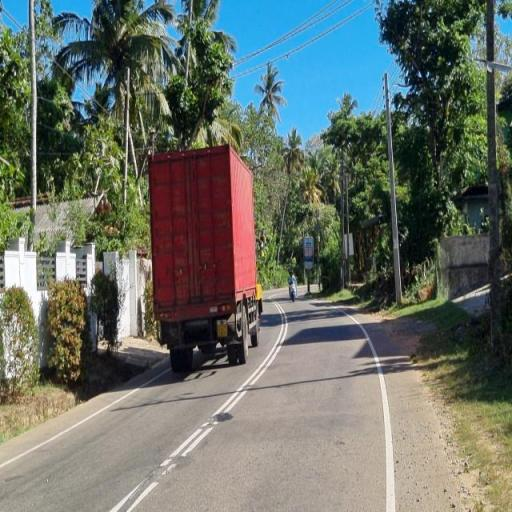double_white_line: (161, 302, 288, 474)
